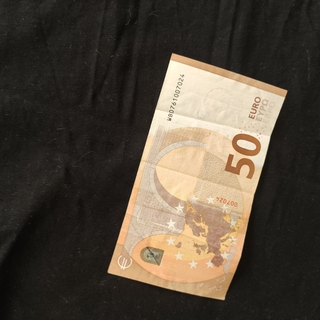50EUROBack: (105, 51, 289, 301)
